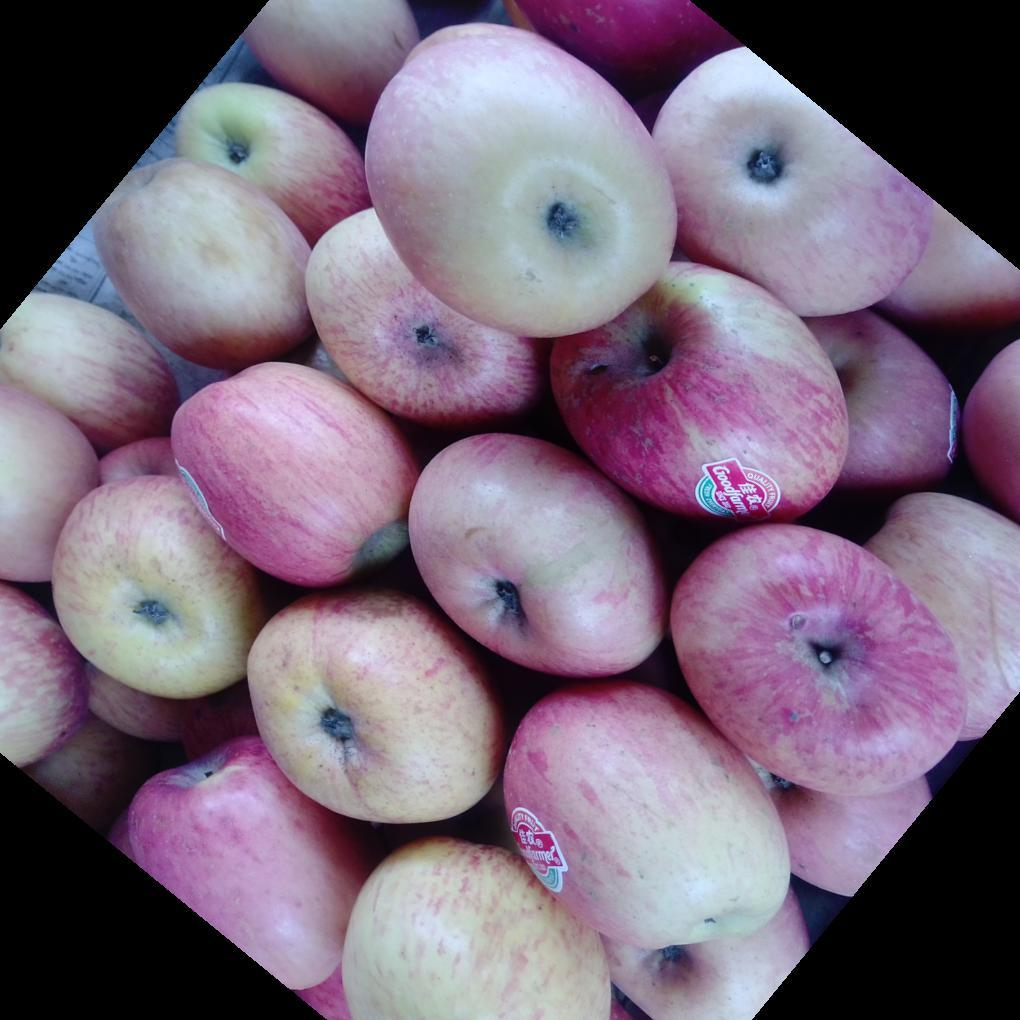FreshGuava: (3, 15, 1020, 1020)
